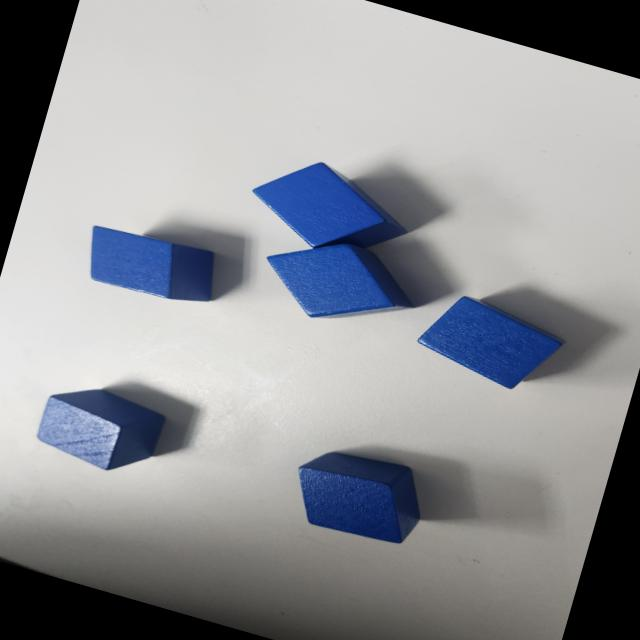blue: (241, 145, 421, 273), (253, 222, 424, 344), (409, 286, 568, 400), (283, 437, 432, 552), (31, 375, 170, 484), (78, 218, 224, 314)
